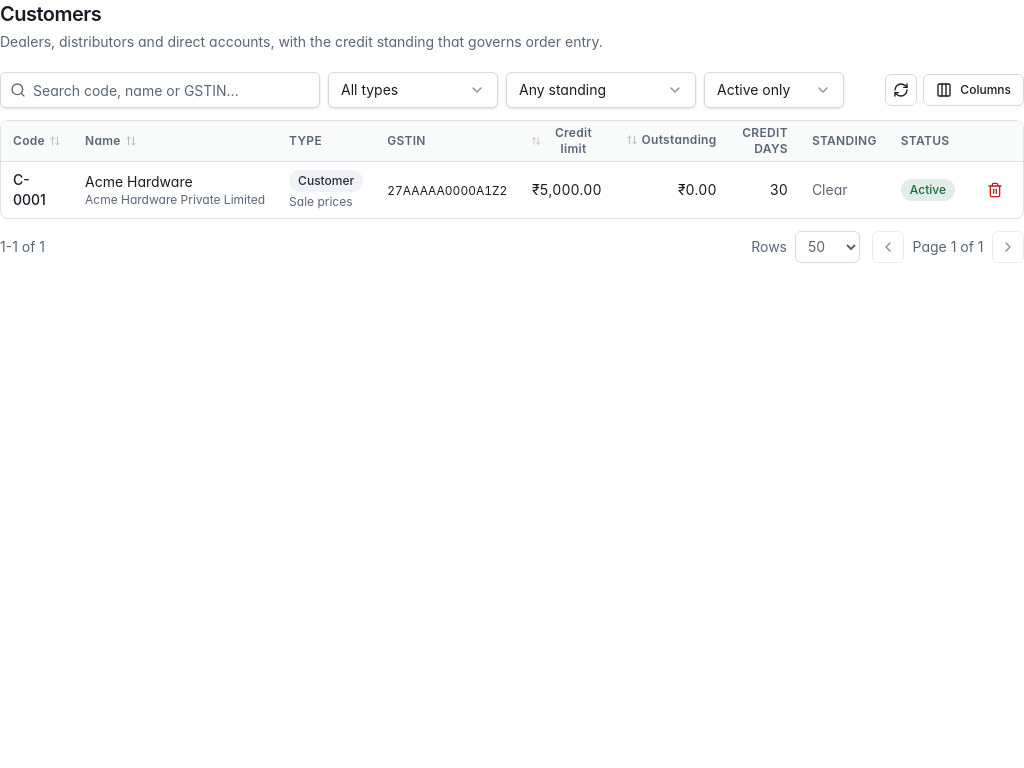
Scenario: retiring an account › holds back a reason too short for the API to accept
Click the button named "Retire C-0001": (995, 190) [979,174,1011,206]
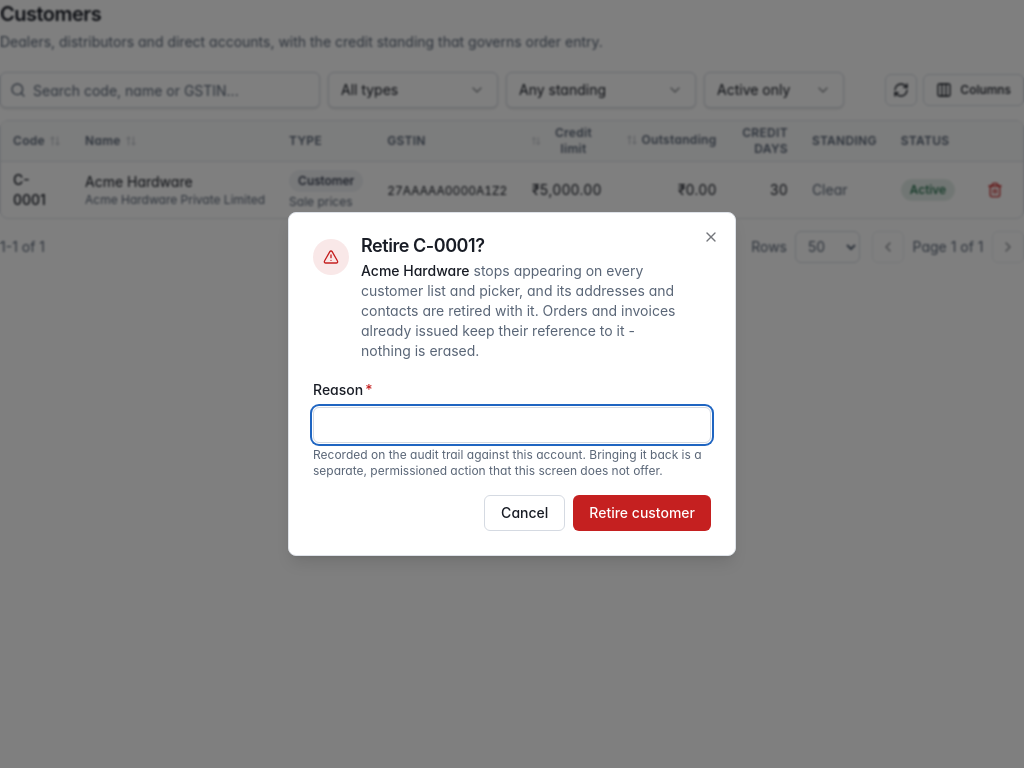
Now the field labelled "Reason*" is shown
In the field labelled "Reason*": (512, 425) [313,407,711,443], type "x"
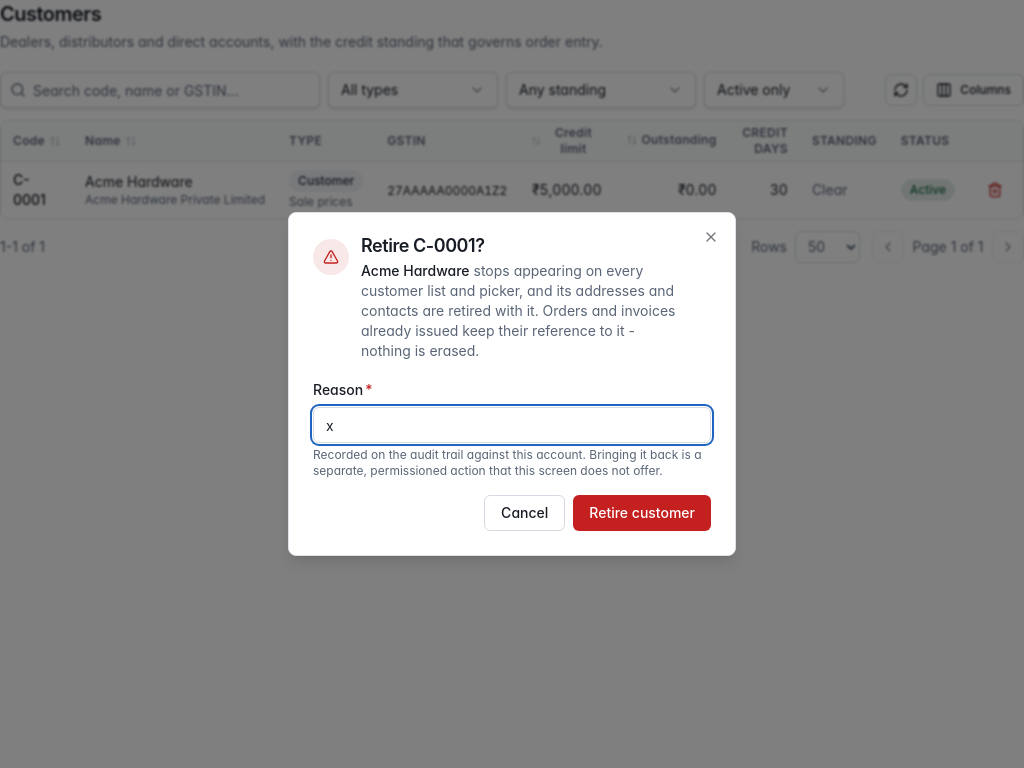
Click the button "Retire customer": (642, 513) [573,495,711,531]
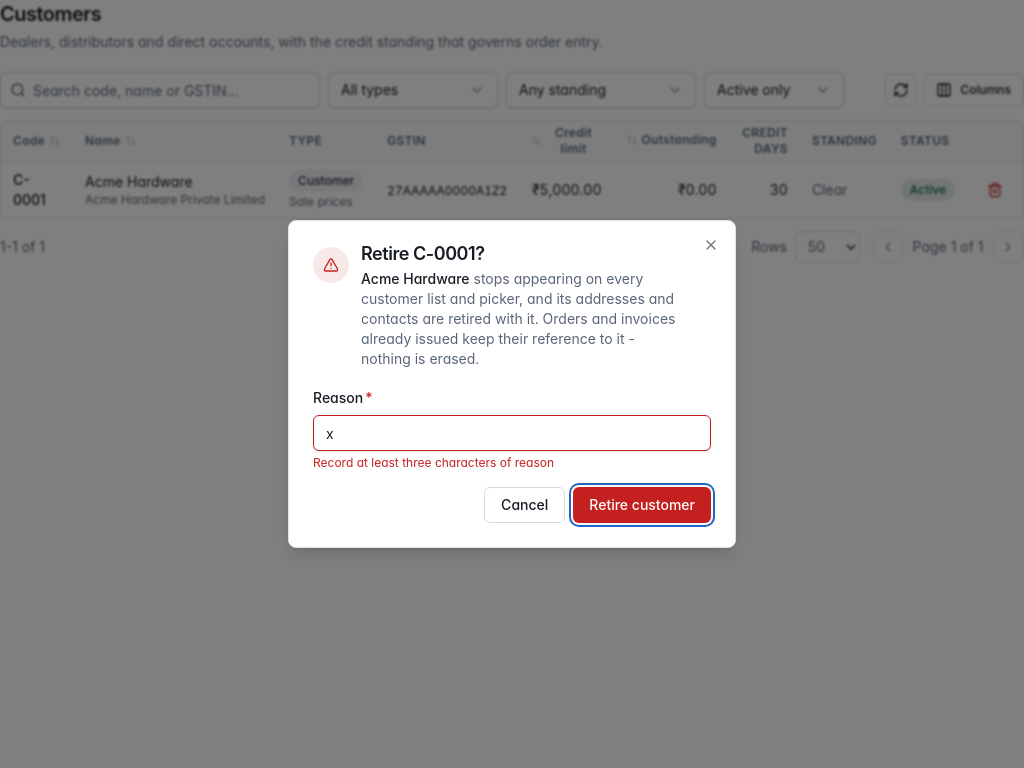
Now the text "Record at least three characters of reason" is shown, box [313,455,554,470]
